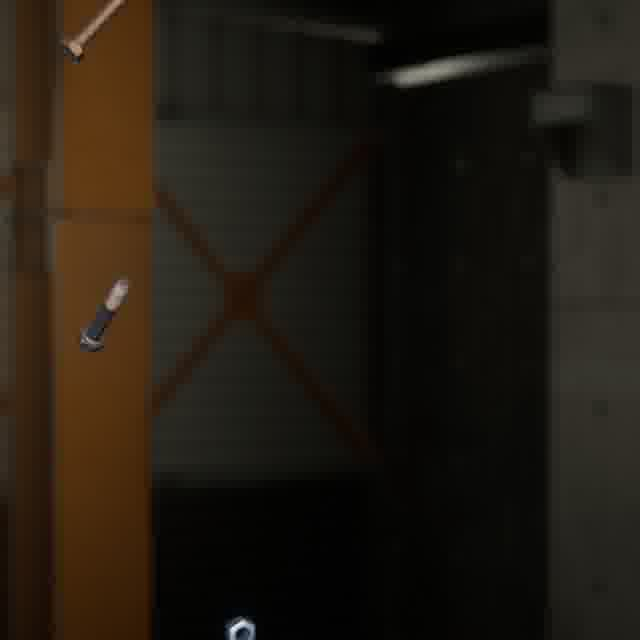bolt: (72, 272, 135, 357), (55, 0, 133, 67)
nut: (221, 610, 260, 640)
